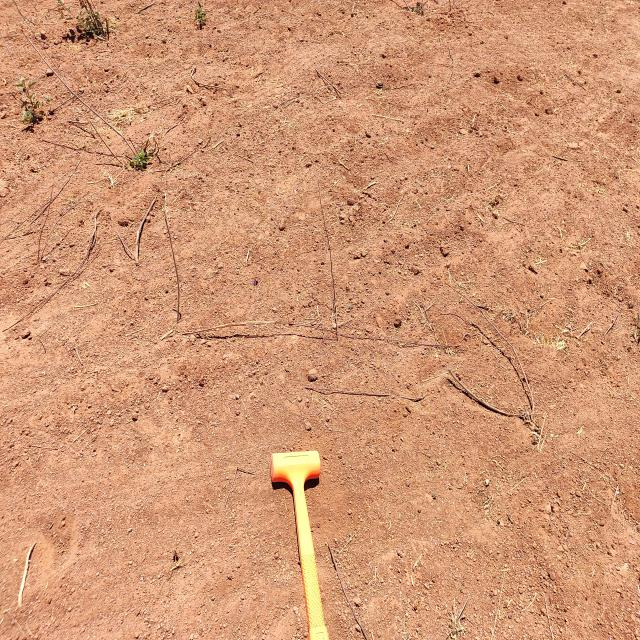Orange_hammer: (269, 448, 329, 638)
